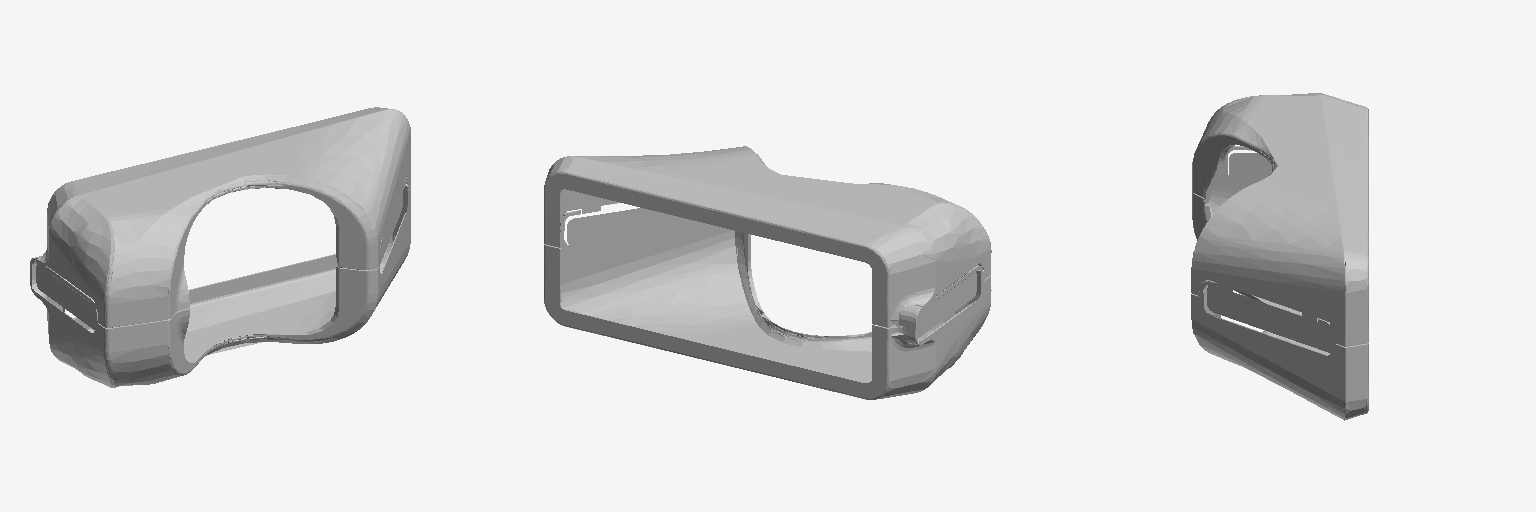
The model's file is sim_ecub_1-1_l_ankle_2.obj.
3 views of the same model, side by side, from view 1: azimuth 30°, elevation 25°; view 2: azimuth 150°, elevation 25°; view 3: azimuth 270°, elevation 25° (orthographic).
Size of the model in its own units: 259 by 111 by 106.